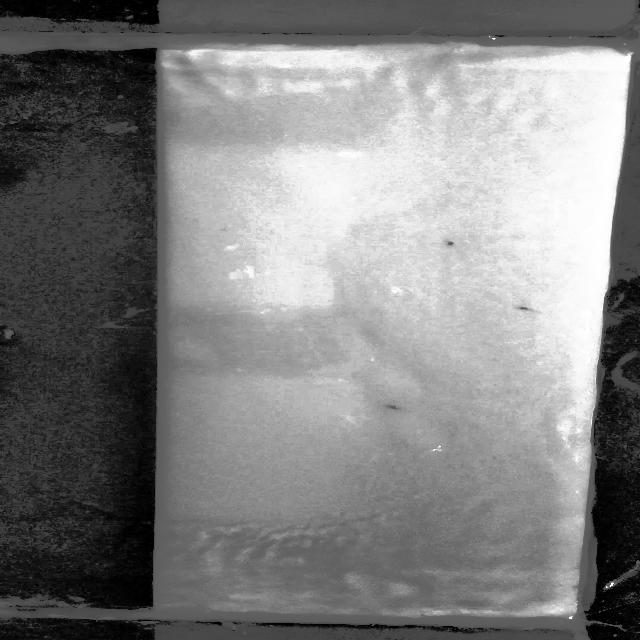shrimp: (380, 402, 407, 413), (510, 306, 540, 314), (442, 237, 458, 250)
